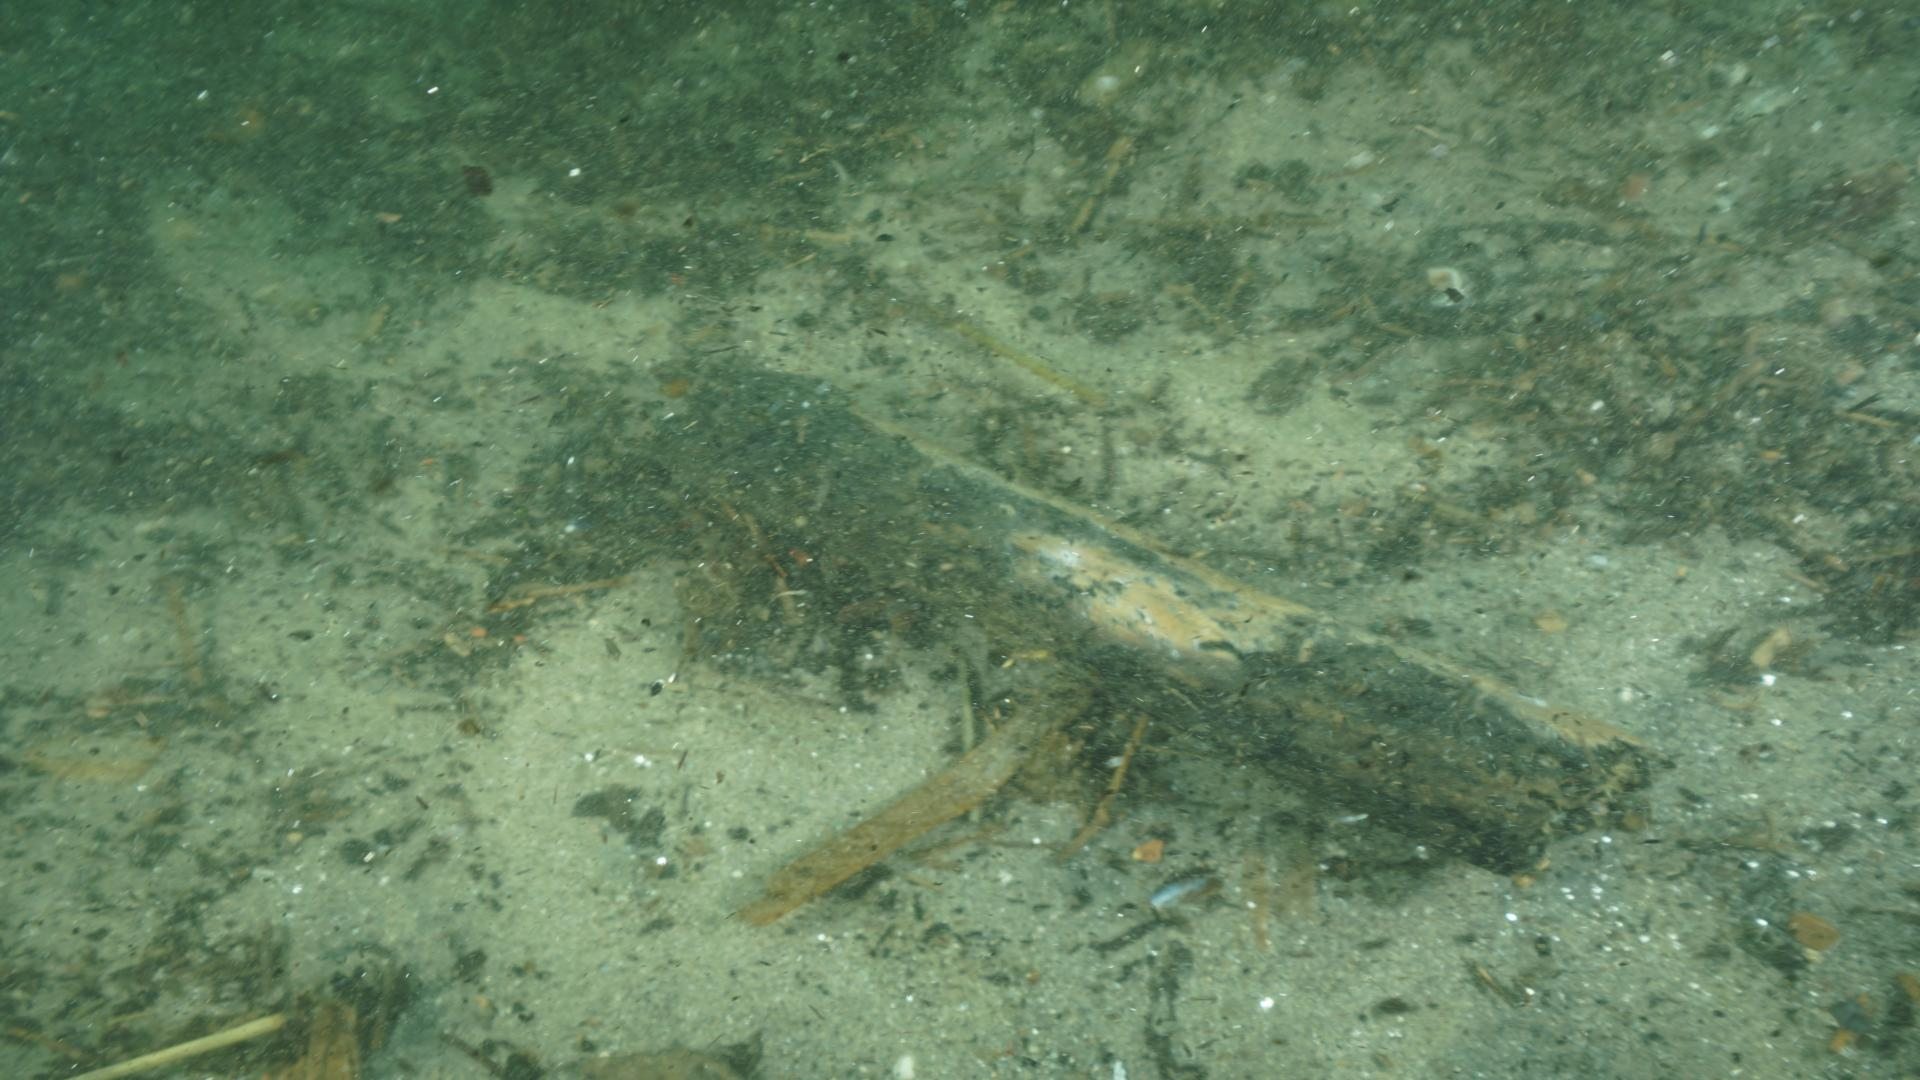wood: (659, 377, 1662, 866)
